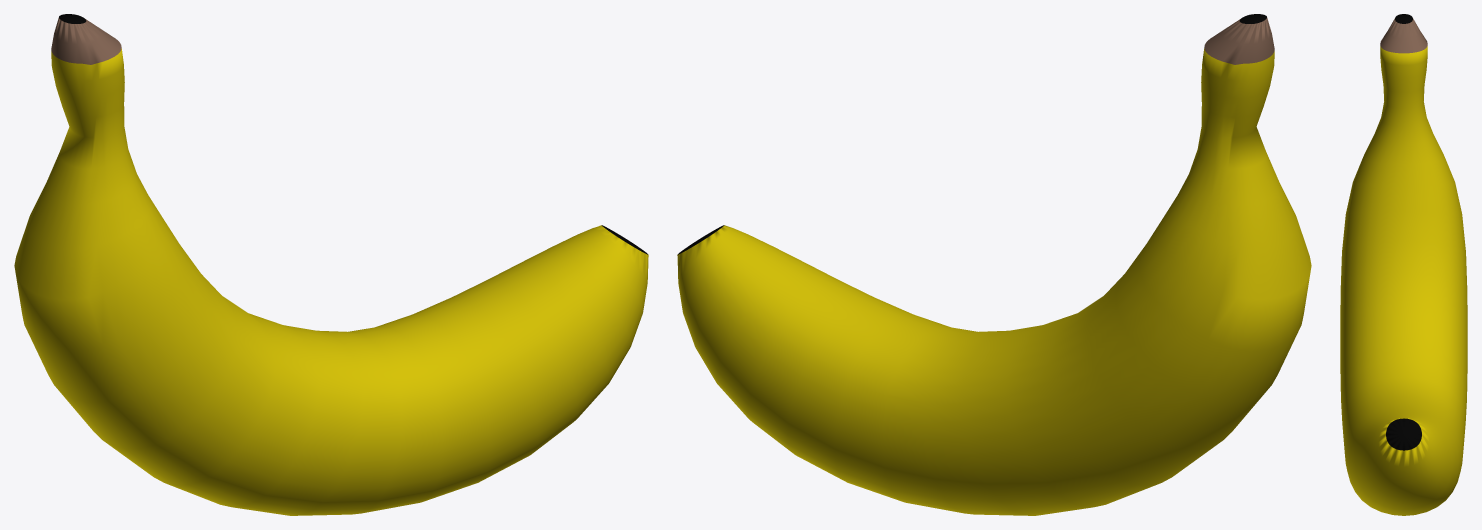
File: Fruit_Banana.fbx
3 views of the same model, side by side, from view 1: azimuth 30°, elevation 25°; view 2: azimuth 150°, elevation 25°; view 3: azimuth 270°, elevation 25° (orthographic). The views are drawn at different scales.
Visible parts, largest first — view 1: Banana; view 2: Banana; view 3: Banana.
Boxes of the visible parts, bbox=[...] form: Banana: bbox=[14, 14, 648, 515]; Banana: bbox=[677, 14, 1311, 515]; Banana: bbox=[1340, 14, 1467, 515].
Bounding box in the file's own units: 263 × 227 × 70.72.
